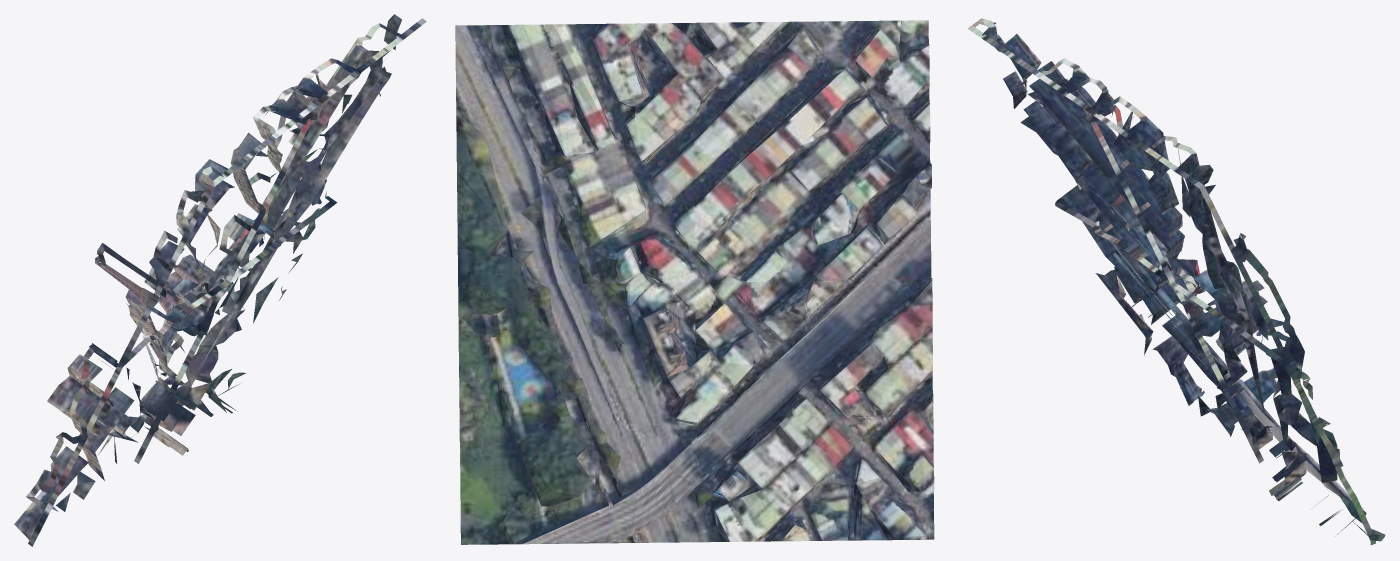
3 renders of one model, left to right at view 1: azimuth 30°, elevation 25°; view 2: azimuth 150°, elevation 25°; view 3: azimuth 270°, elevation 25°, orthographic. The views are drawn at different scales.
Size of the model in its own units: 308 by 293 by 261.
1 material, 1 textured.
